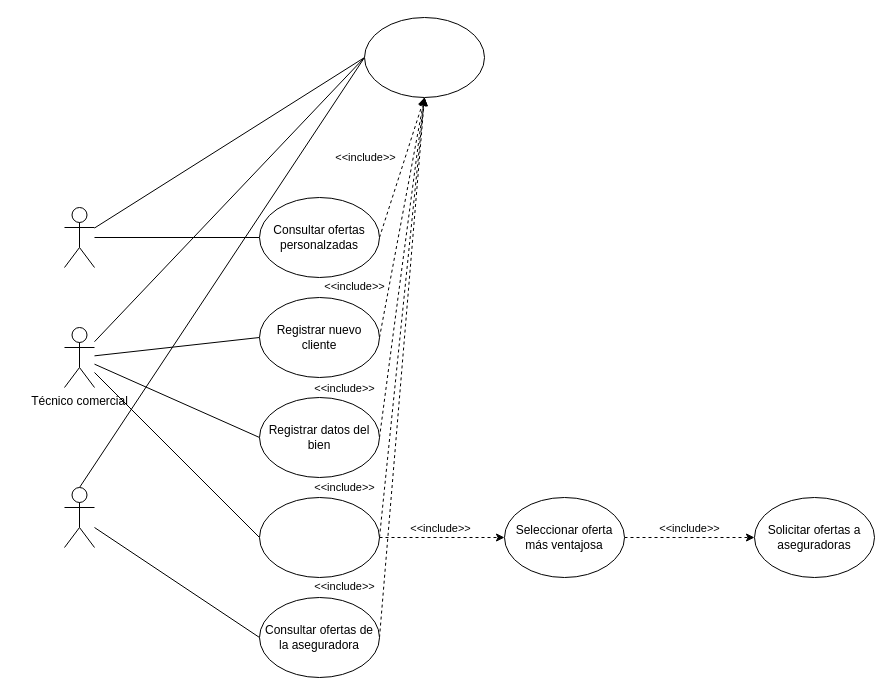
The diagram is 892 pixels wide and 695 high, and some of its shapes have lost their labels. The shapes that lost their labels are listed below. From the top down, each one's centre as x and y in pixels, then its label:
At [424,57]: "Iniciar Sesión".
At [79,237]: "Cliente".
At [79,517]: "Agente de aseguradora".
At [319,537]: "Ofrecer oferta más ventajosa".
